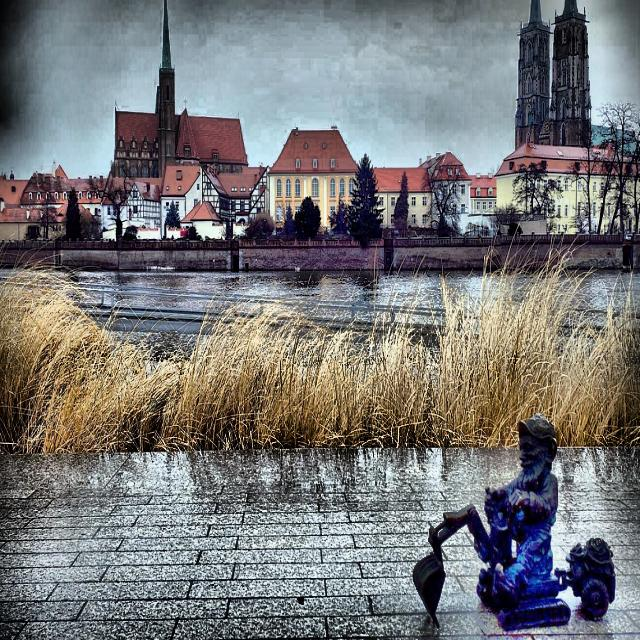Koparkus: (412, 414, 615, 631)
